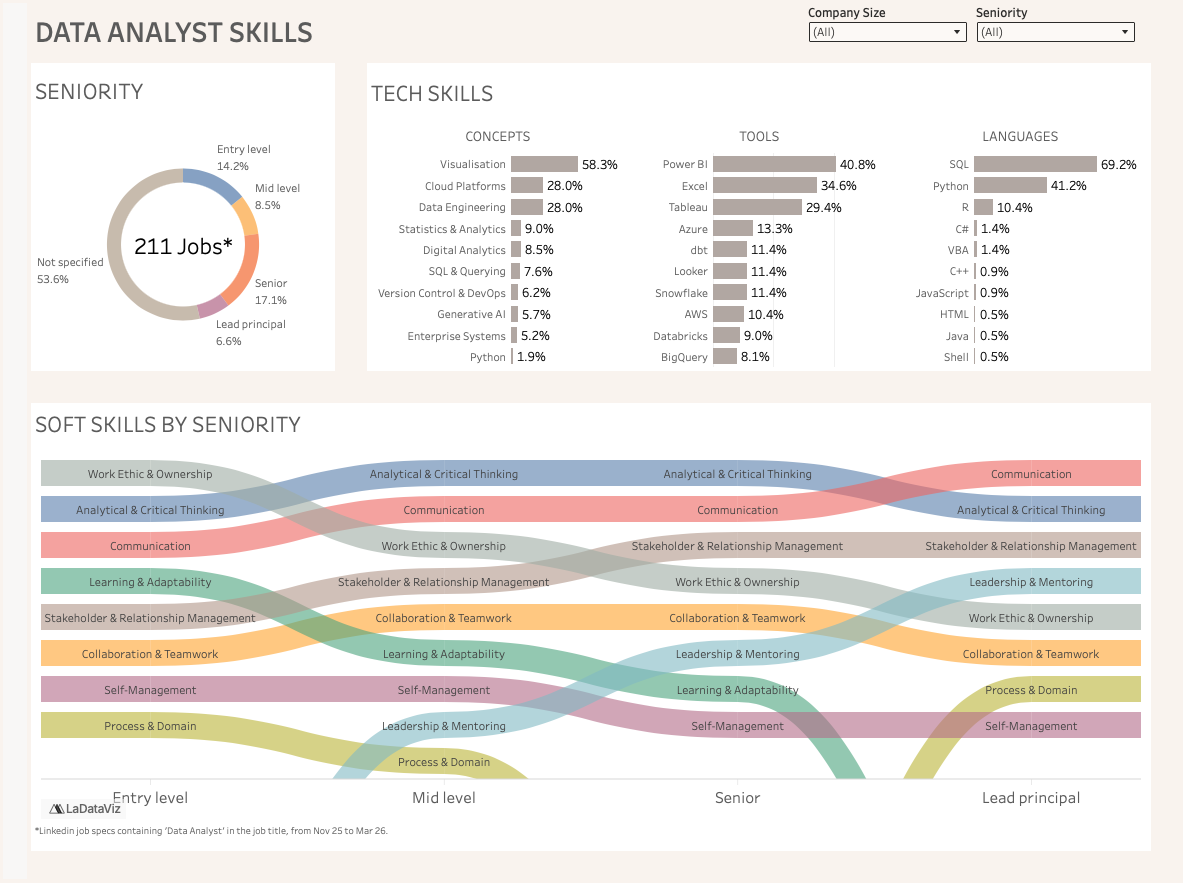

The page's visual inventory and layout, read from the dashboard file:
{"tool":"tableau","page":{"name":"Dashboard 1","canvas":[1200,900],"ordinal":0},"visuals":[{"type":"blank","box":[8,8,32,884]},{"type":"blank","box":[40,8,1120,32]},{"type":"blank","box":[1160,8,32,884]},{"type":"worksheet","title":"Job offers by seniority","box":[40,40,207,410]},{"type":"worksheet","title":"Top 10 Tech Skills Category","mark":"Automatic","rows":["skill_category"],"cols":["job_id"],"box":[247,40,357.7,410]},{"type":"worksheet","title":"Top 10 Languages","mark":"Automatic","rows":["canonical"],"cols":["job_id (skills_flat.csv)"],"box":[604.7,40,277.7,410]},{"type":"worksheet","title":"Top 10 Tools","mark":"Automatic","rows":["canonical"],"cols":["job_id (skills_flat.csv)"],"box":[882.3,40,277.7,410]},{"type":"worksheet","title":"Soft Skills by Seniority","box":[40,450,1120,410]},{"type":"blank","box":[40,860,1120,32]}]}

Visuals, with their boxes in screenshot pixels (x1, y1, x2, y2), scaled from the page's 1200x900 canvas onto the 1184x885 screenshot:
blank: Rect(8, 8, 39, 877)
blank: Rect(39, 8, 1145, 39)
blank: Rect(1145, 8, 1176, 877)
"Job offers by seniority" worksheet: Rect(39, 39, 244, 442)
"Top 10 Tech Skills Category" worksheet: Rect(244, 39, 597, 442)
"Top 10 Languages" worksheet: Rect(597, 39, 871, 442)
"Top 10 Tools" worksheet: Rect(871, 39, 1145, 442)
"Soft Skills by Seniority" worksheet: Rect(39, 442, 1145, 846)
blank: Rect(39, 846, 1145, 877)
